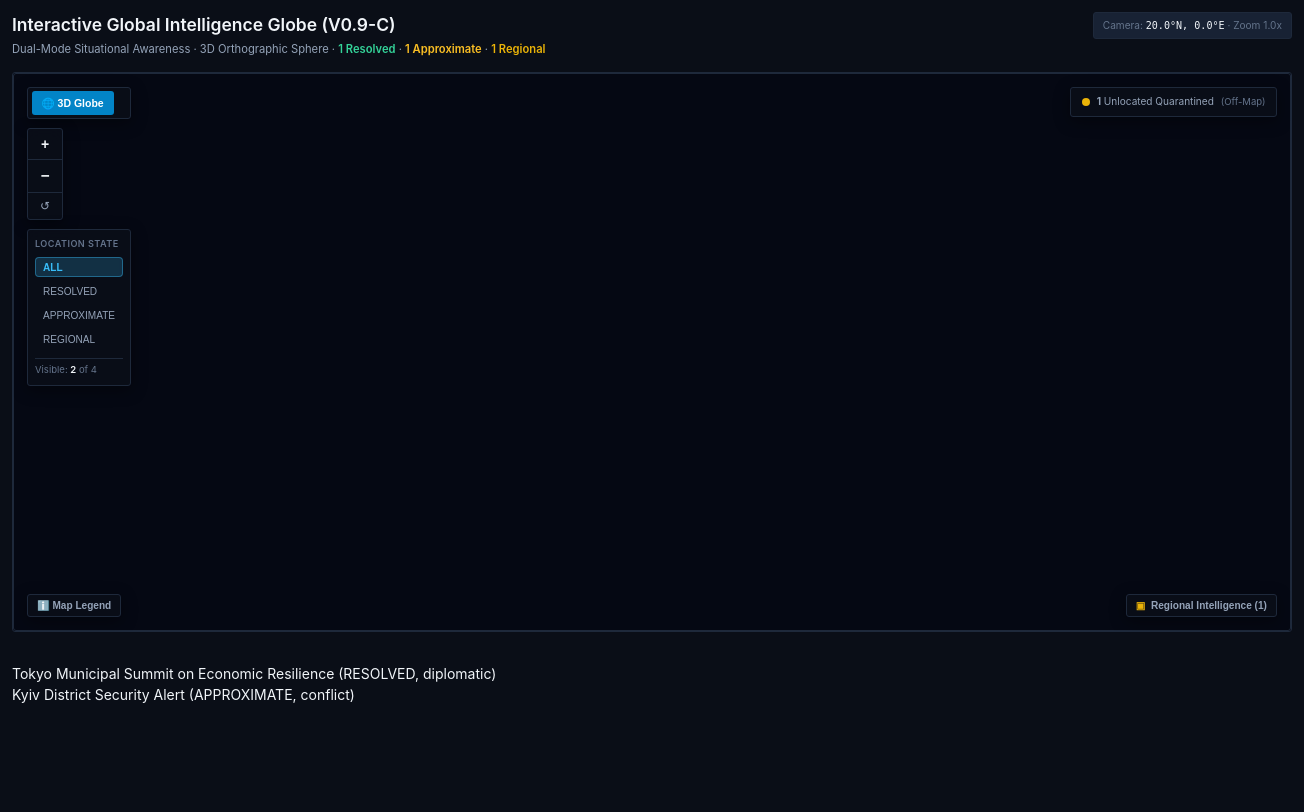
Test: GeoMapView Component Suite (V0.9-C) › renders non-point Regional ledger and opens details on click
Expand regional ledger
Click the text "Regional Intelligence (1)" at coordinates (1209, 606), box [1151, 600, 1267, 611]
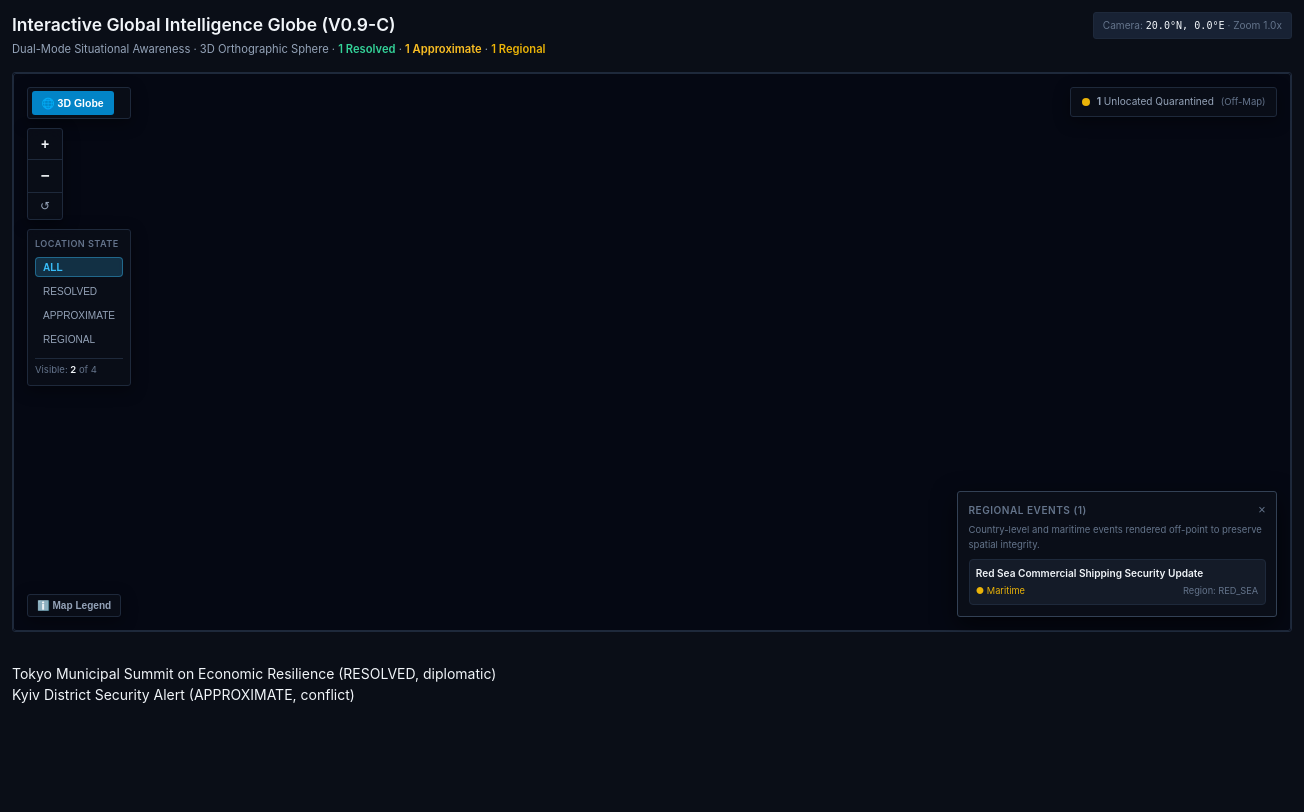
expect the text "Red Sea Commercial Shipping Security Update" is shown: met, box [976, 567, 1203, 579]
expect the text "Country-level and maritime events rendered off-point" is shown: met, box [968, 524, 1262, 550]
